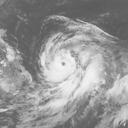cyclone: (36, 31, 86, 87)
